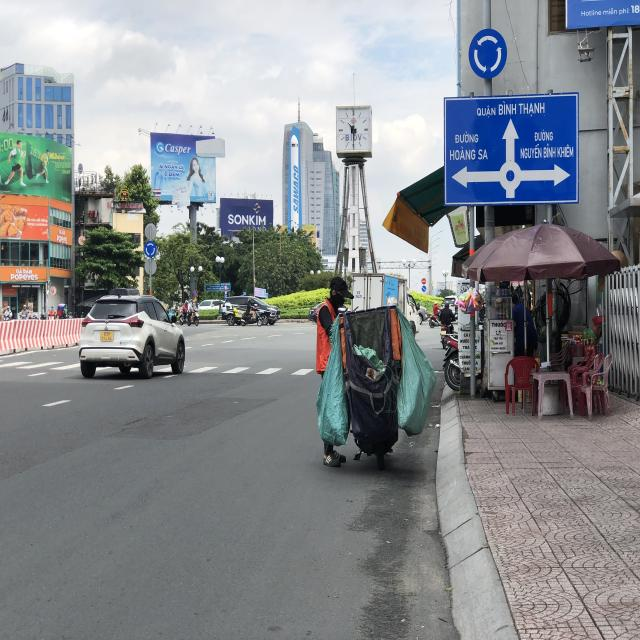Bien bao noi giao nhau chay theo vong xuyen: (466, 24, 509, 80), (144, 240, 158, 259)
